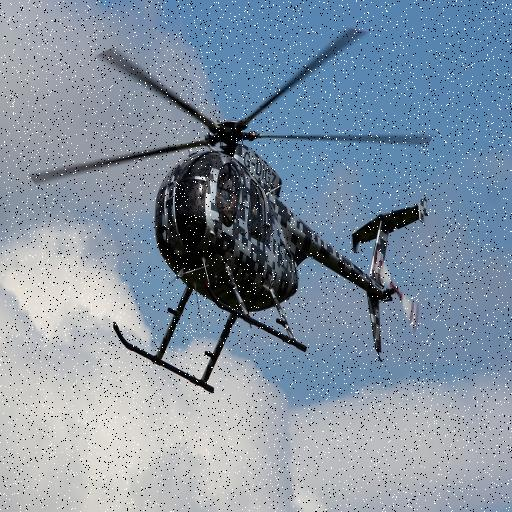helicopter: (26, 20, 440, 403)
